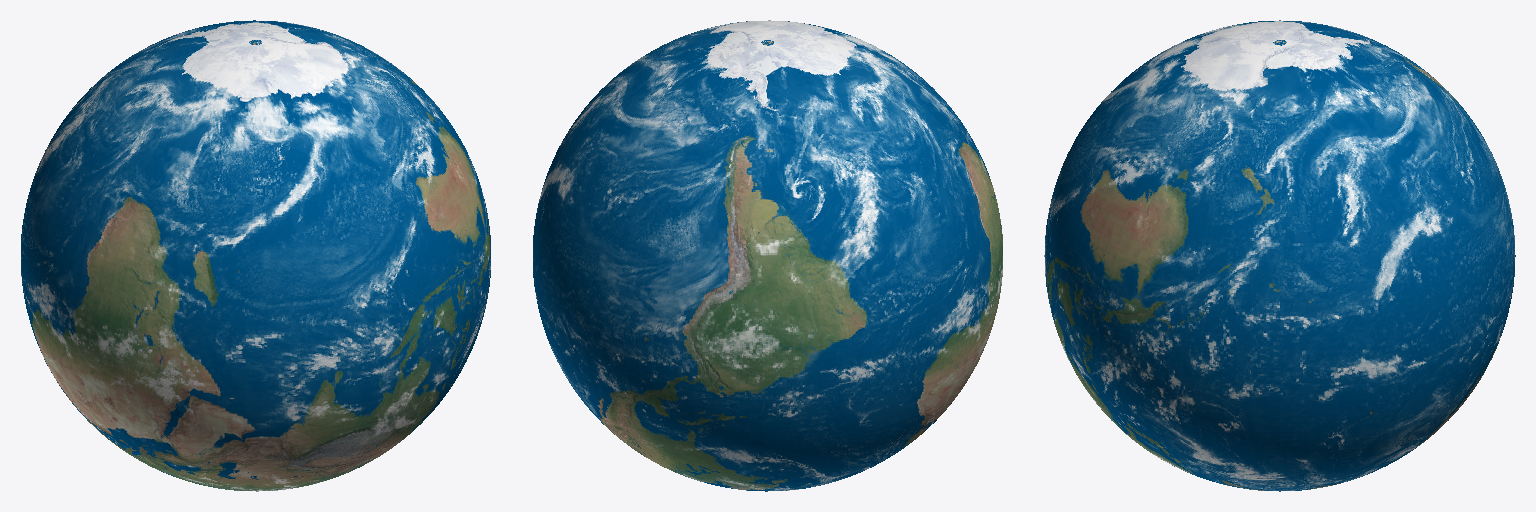
3 views of the same model, side by side, from view 1: azimuth 30°, elevation 25°; view 2: azimuth 150°, elevation 25°; view 3: azimuth 270°, elevation 25° (orthographic).
Size of the model in its own units: 2 by 2 by 2.
1 materials, 1 textured.